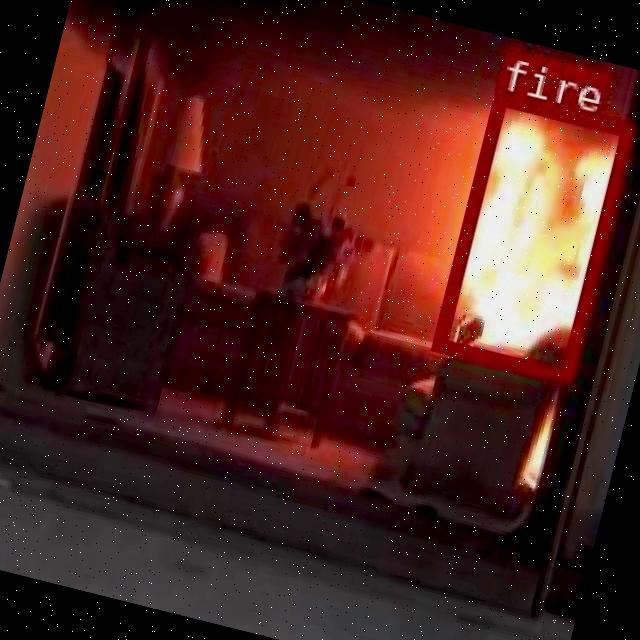fire: (430, 86, 634, 380)
